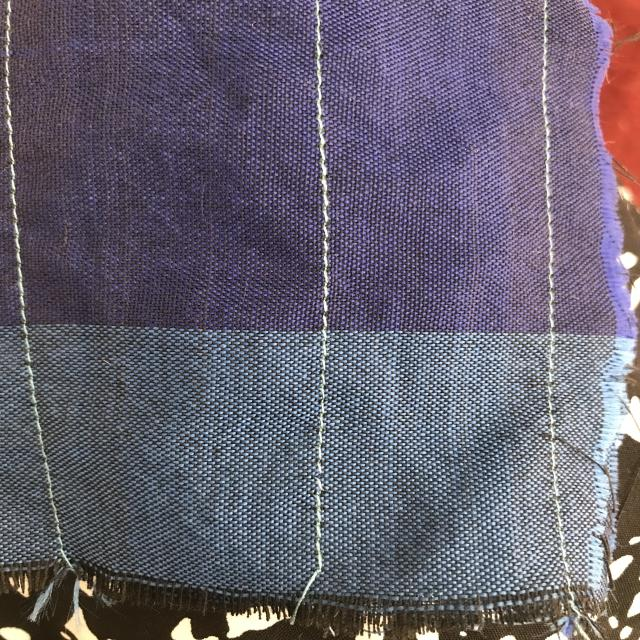good: (535, 224, 572, 329), (316, 178, 338, 308)
